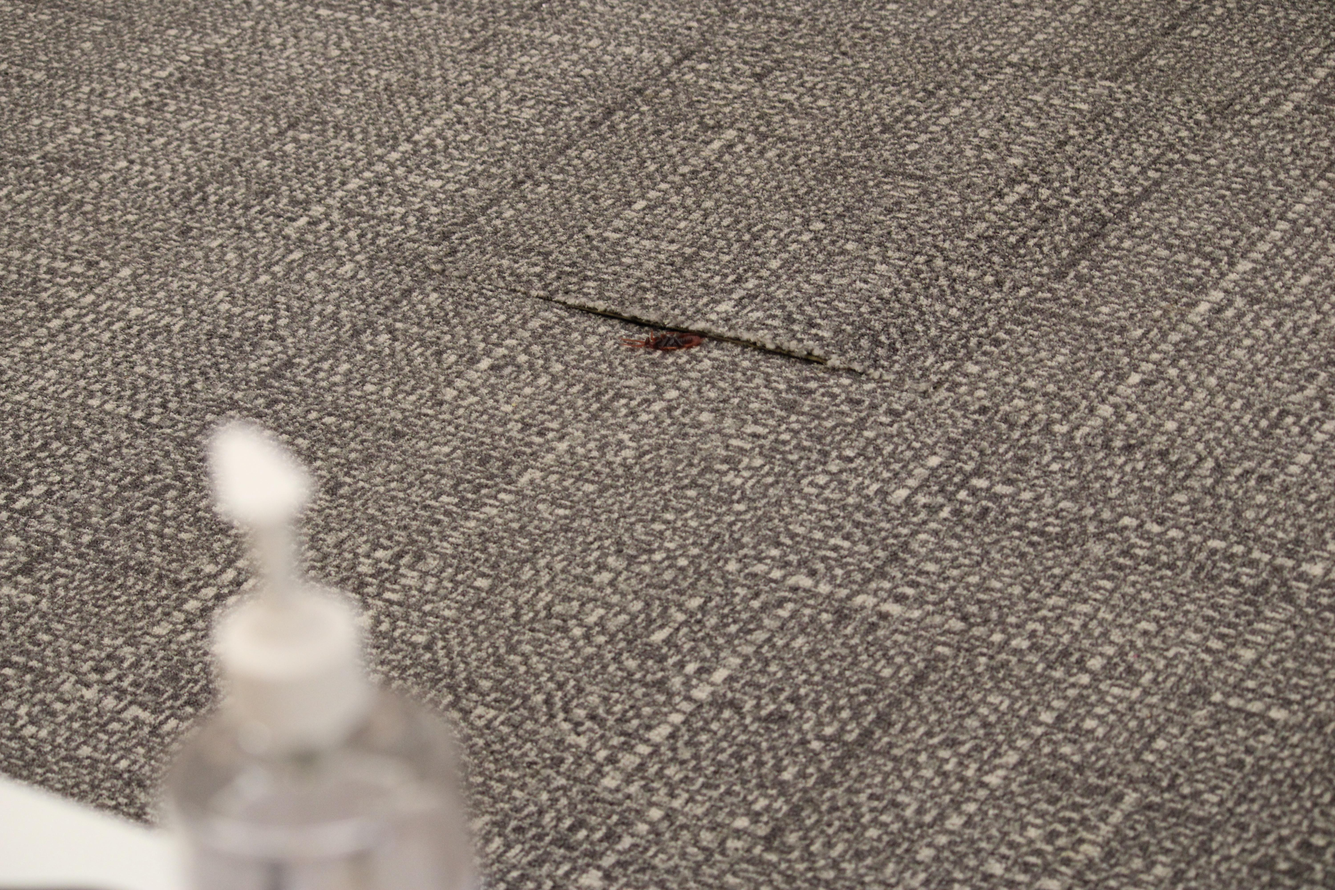cockroach: (615, 310, 713, 369)
